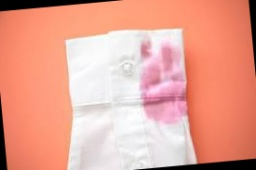wine: (134, 35, 187, 128)
